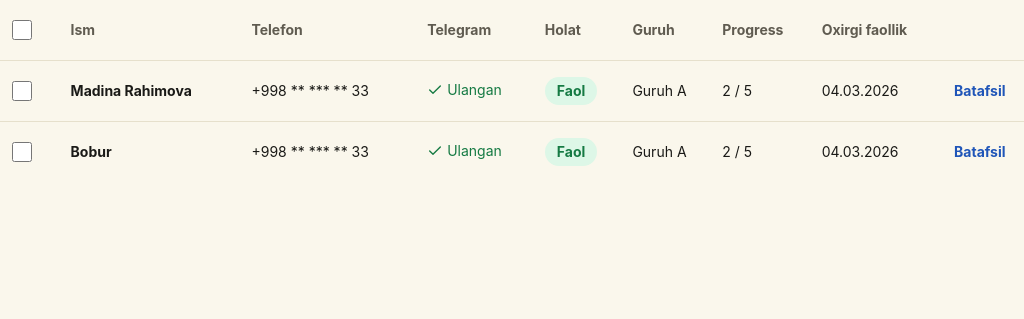
Test: StudentTable › select-all toggles the page
This screenshot has width=1024, height=319.
Click the checkbox named "Sahifadagi hammasini tanlash" at (22, 30), box left=12, top=20, right=32, bottom=40
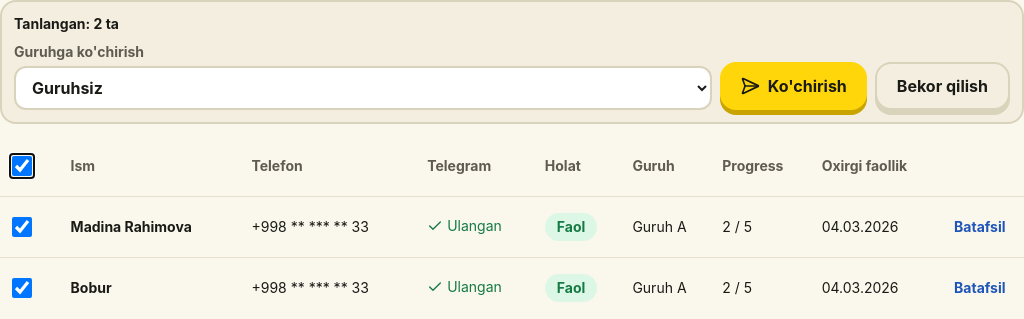
Expected: the text "Tanlangan: 2 ta" is shown, left=14, top=15, right=119, bottom=32
Click the checkbox named "Sahifadagi hammasini tanlash" at (22, 166), box left=12, top=156, right=32, bottom=176
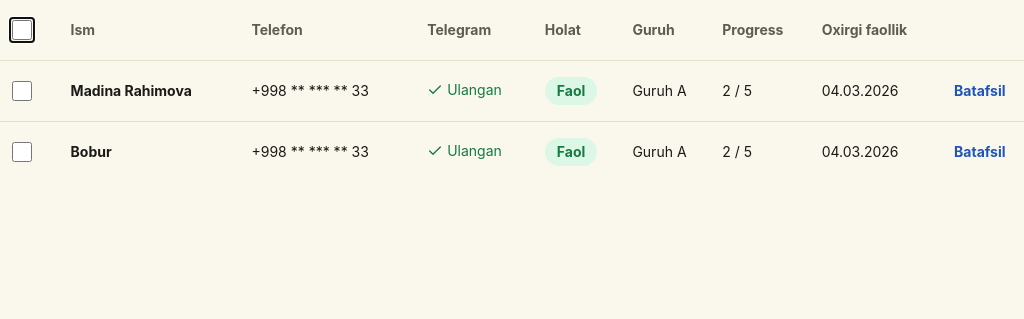
Expected: the text "Tanlangan" is gone
